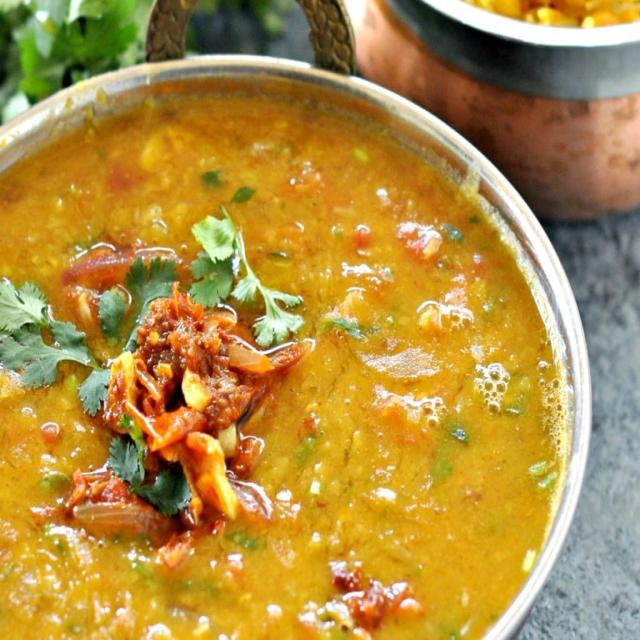dal: (16, 152, 479, 628)
